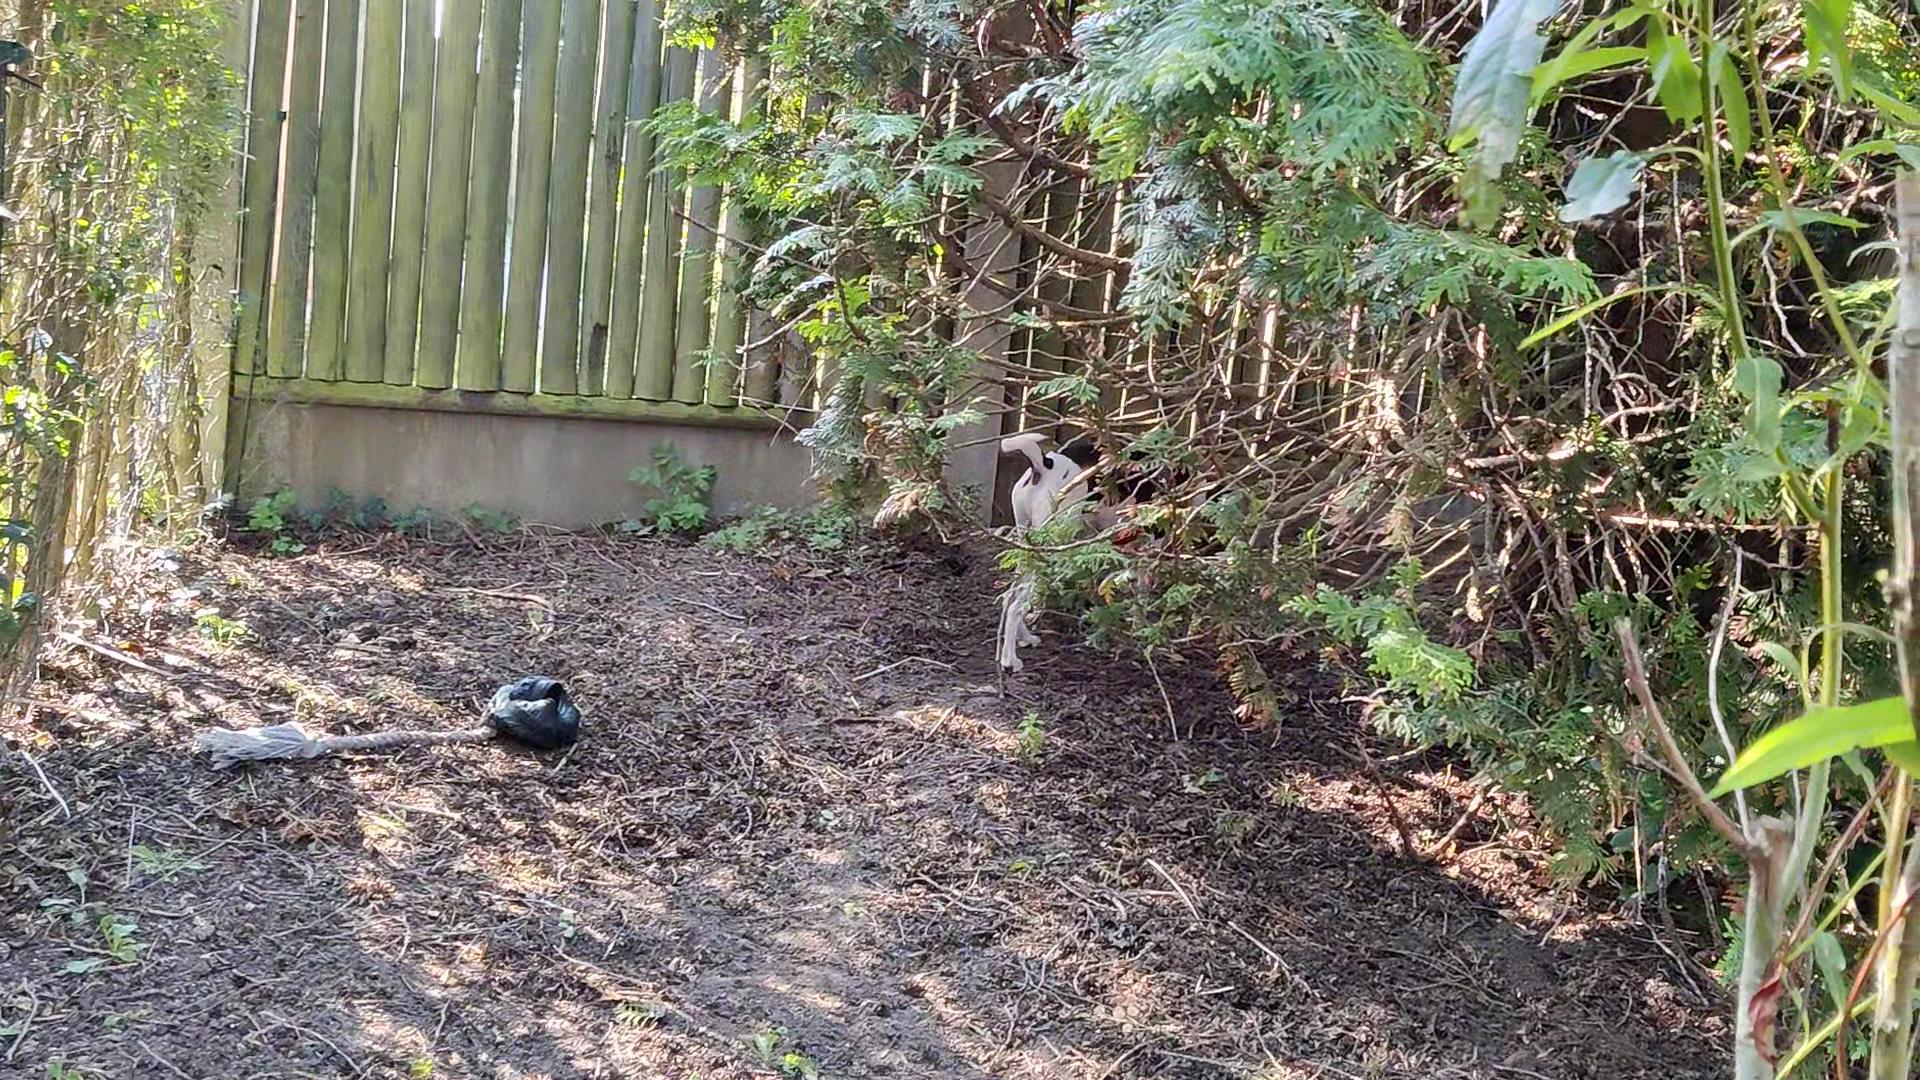Dog: (984, 427, 1274, 676)
